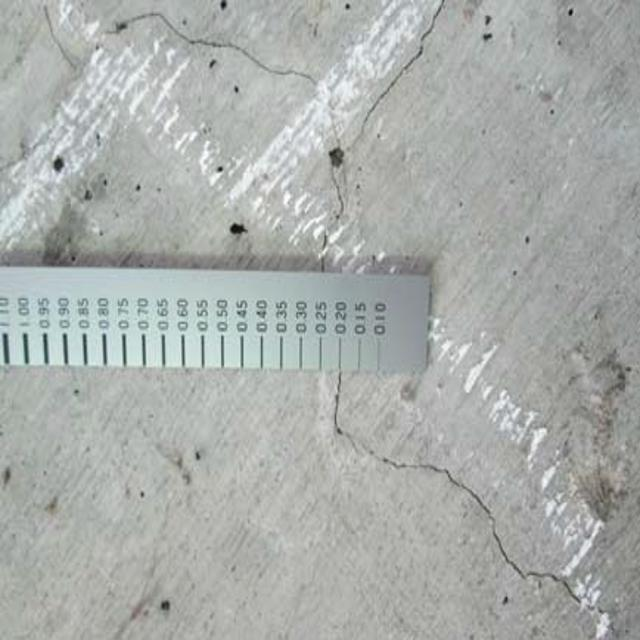crack: (46, 10, 443, 286), (314, 390, 624, 634)
